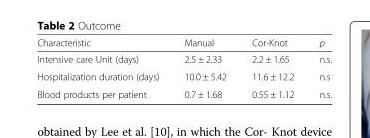table: (36, 36, 331, 99)
table column: (36, 36, 171, 99), (238, 36, 306, 99), (171, 36, 238, 99), (306, 36, 331, 99)
table column header: (36, 36, 331, 50)
table row: (36, 67, 331, 85), (36, 50, 331, 67), (36, 36, 331, 50), (36, 85, 331, 99)
